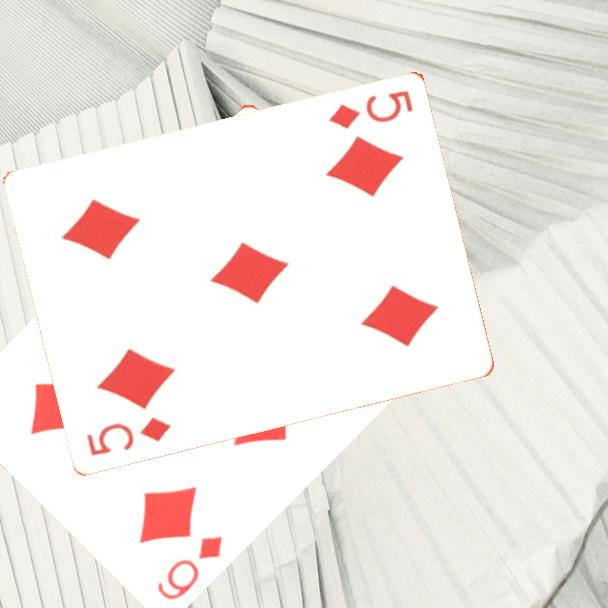d05: (83, 413, 174, 458), (326, 86, 416, 131)
d06: (153, 531, 226, 602)
